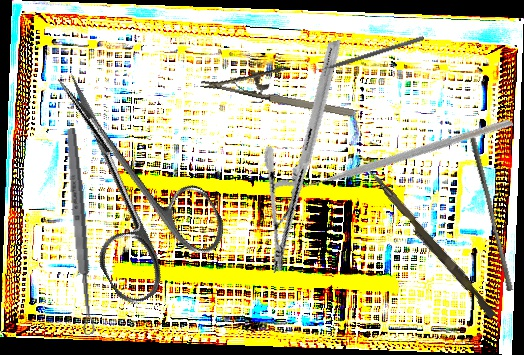Chopper: (287, 33, 515, 266)
Iris Scissors: (6, 43, 238, 312)
Needle Holder: (217, 39, 395, 274), (200, 49, 360, 122)
Pusher: (361, 167, 501, 320), (463, 136, 519, 292)
Spatula Surgical: (312, 31, 425, 76)
Surgical Spoon: (64, 127, 96, 336)
